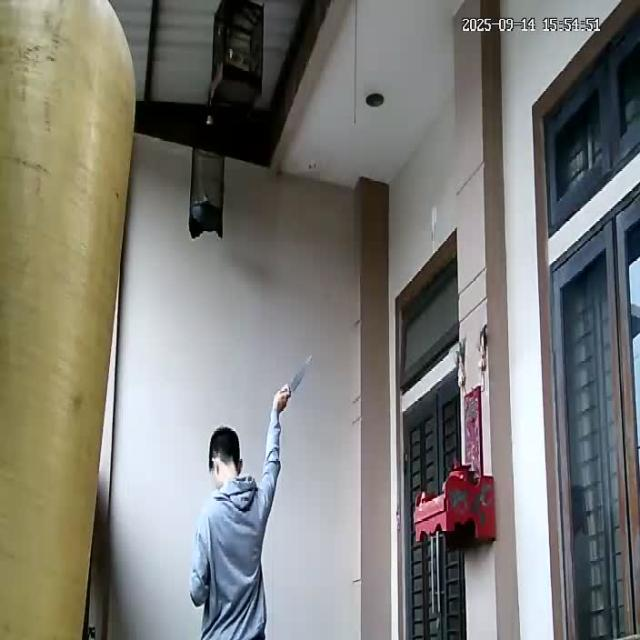senjata_tajam: (288, 351, 314, 395)
